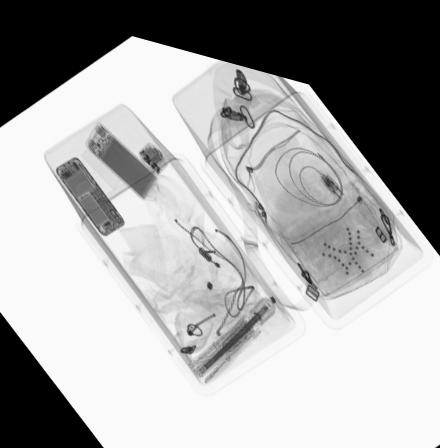Powerbank: (81, 112, 158, 194)
